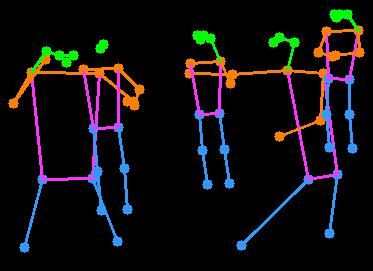normal: (14, 33, 149, 259), (171, 27, 245, 202)
